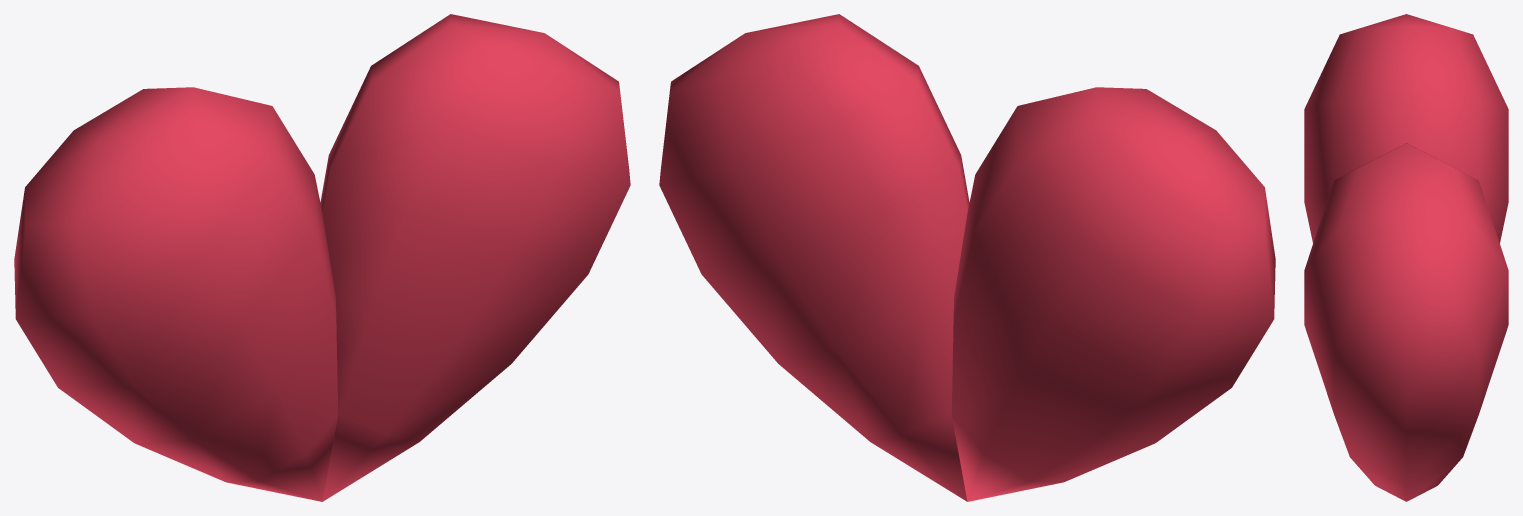
File: life-heart.glb
3 views of the same model, side by side, from view 1: azimuth 30°, elevation 25°; view 2: azimuth 150°, elevation 25°; view 3: azimuth 270°, elevation 25° (orthographic). The views are drawn at different scales.
Visible parts, largest first — view 1: life.heart; view 2: life.heart; view 3: life.heart.
Part boxes in pixels (box(x1,y1,x2,y2)): life.heart: box(14, 14, 630, 501); life.heart: box(659, 14, 1275, 501); life.heart: box(1304, 14, 1508, 501).
Bounding box in the file's own units: 1.92 × 1.33 × 0.5985.
1 material, 1 textured.
